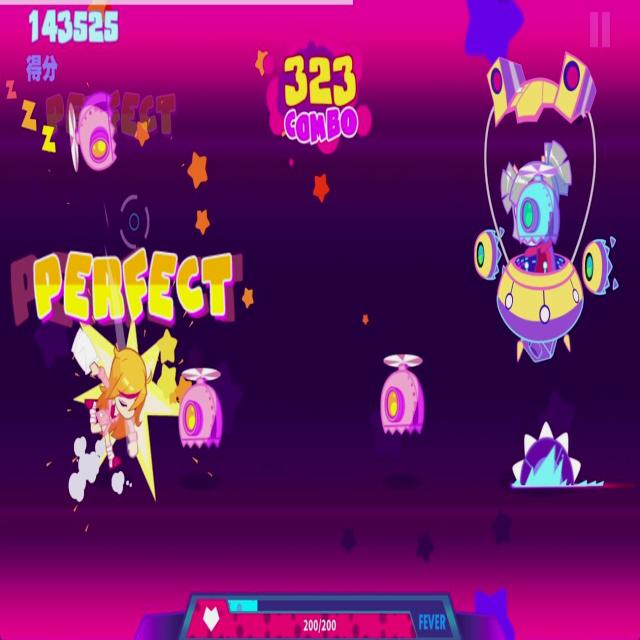ci: (507, 415, 612, 490)
jiqiqiu: (376, 342, 430, 440), (66, 91, 122, 174), (175, 362, 227, 448)
qiangboss: (474, 44, 622, 368)
